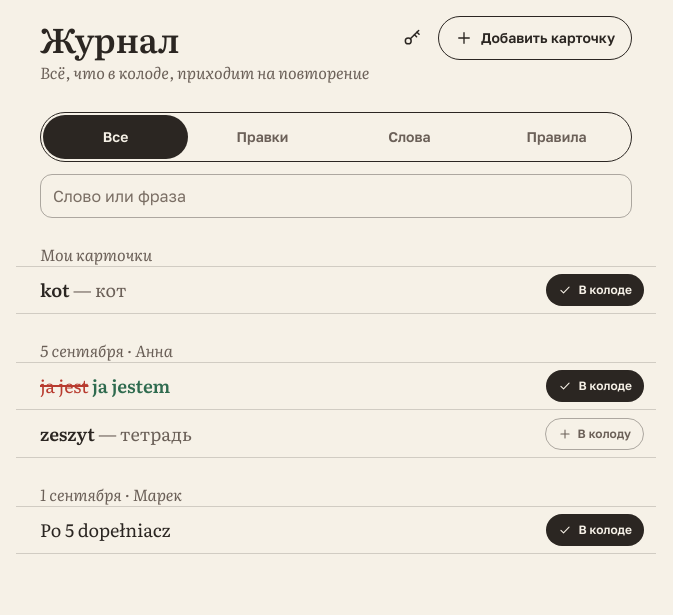
it: JournalPage › toggles deck membership optimistically and reverts on error
Expected: the text "kot" is shown, [40,276,70,303]
Click the button with aria-label "Убрать из колоды": (595, 386) [546,370,644,402]
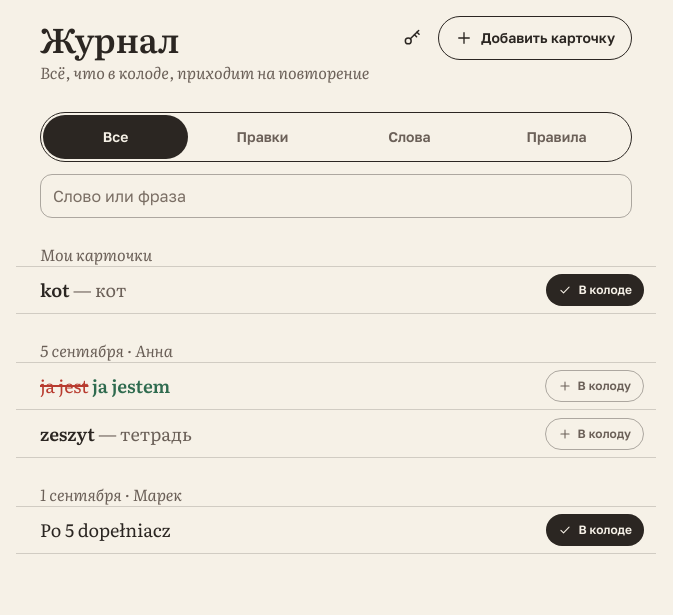
Result: the button named "Убрать из колоды" is not pressed at [544,370,644,402]
Click the 2nd button "В колоду": (594, 434) [544,418,644,450]
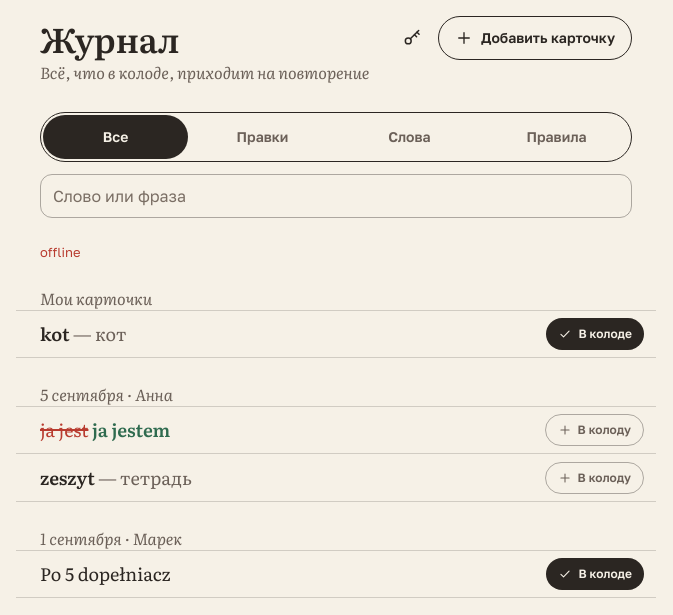
Result: the text "offline" is shown at [40,244,80,260]
